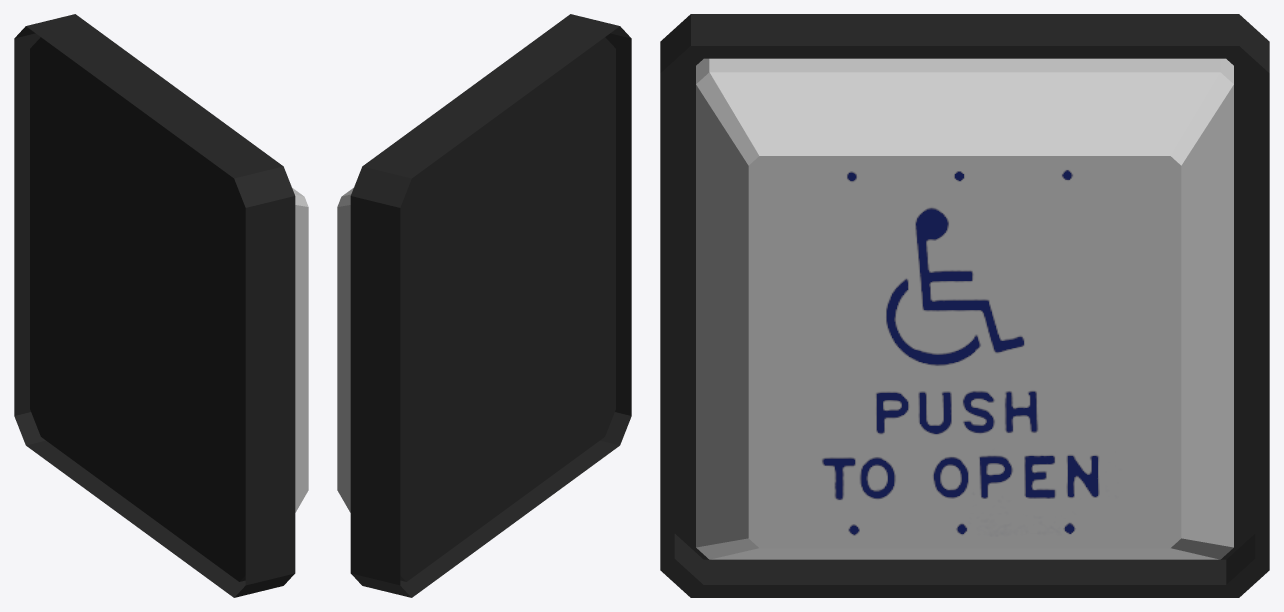
File: disabilityButton.glb
3 renders of one model, left to right at view 1: azimuth 30°, elevation 25°; view 2: azimuth 150°, elevation 25°; view 3: azimuth 270°, elevation 25°, orthographic. The views are drawn at different scales.
Parts seen in each view (by area): view 1: disability_access_button_geo; view 2: disability_access_button_geo; view 3: disability_access_button_geo.
Part boxes in pixels (box(x1,y1,x2,y2)): disability_access_button_geo: box(14, 14, 308, 597); disability_access_button_geo: box(337, 14, 631, 597); disability_access_button_geo: box(660, 14, 1269, 597).
Bounding box in the file's own units: 0.0426 × 0.177 × 0.177.
1 material, 1 textured.
